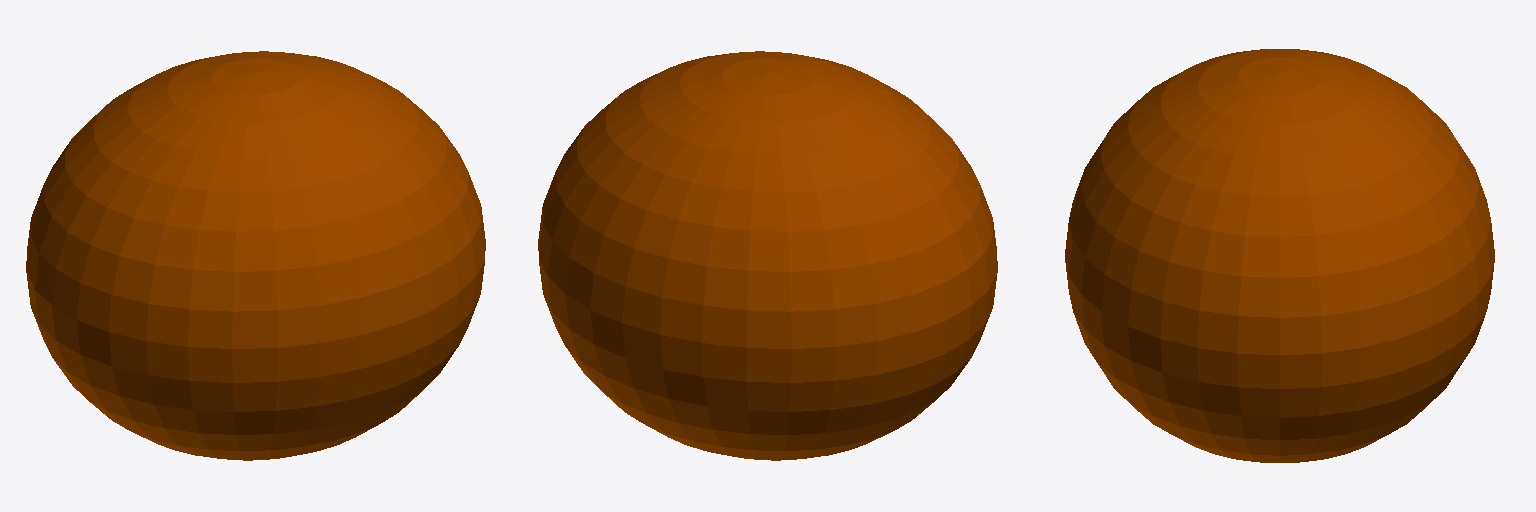
File: moya_rice_o.obj
3 renders of one model, left to right at view 1: azimuth 30°, elevation 25°; view 2: azimuth 150°, elevation 25°; view 3: azimuth 270°, elevation 25°, orthographic.
Visible parts, largest first — view 1: Sphere_Sphere.005_Sphere_Sphere.007; view 2: Sphere_Sphere.005_Sphere_Sphere.007; view 3: Sphere_Sphere.005_Sphere_Sphere.007.
Boxes of the visible parts, <box> form: Sphere_Sphere.005_Sphere_Sphere.007: <box>26,51,485,460</box>; Sphere_Sphere.005_Sphere_Sphere.007: <box>538,51,997,460</box>; Sphere_Sphere.005_Sphere_Sphere.007: <box>1065,49,1494,462</box>.
Size of the model in its own units: 0.2297 by 0.1969 by 0.21.